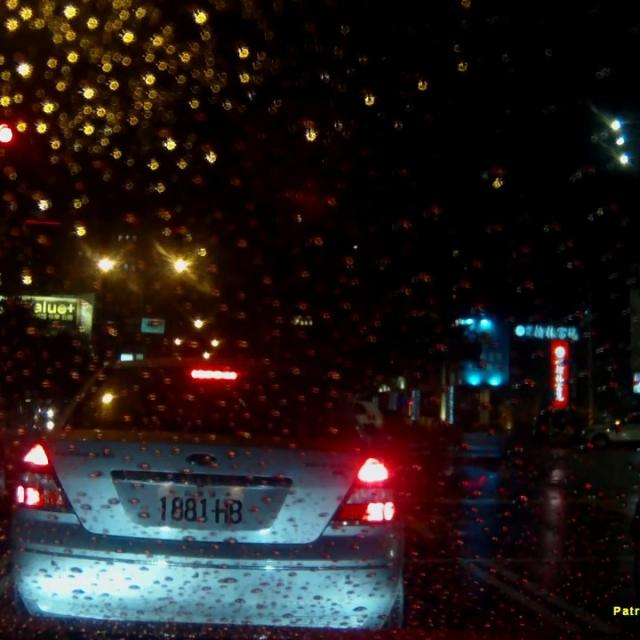Car: (8, 352, 405, 630), (439, 416, 526, 461), (577, 405, 639, 449)
